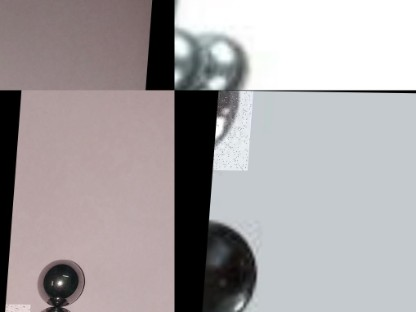ironball: (181, 21, 266, 90), (213, 90, 252, 169), (31, 254, 87, 305)
